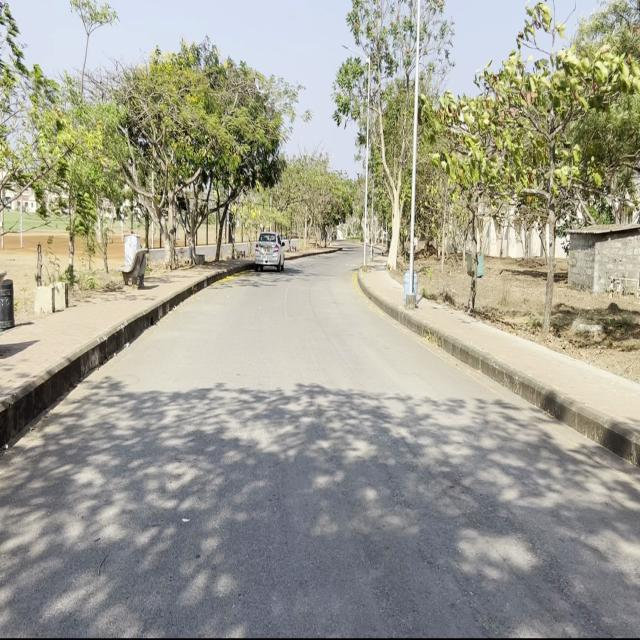Object: (254, 229, 284, 278)
Road: (2, 254, 638, 634)
